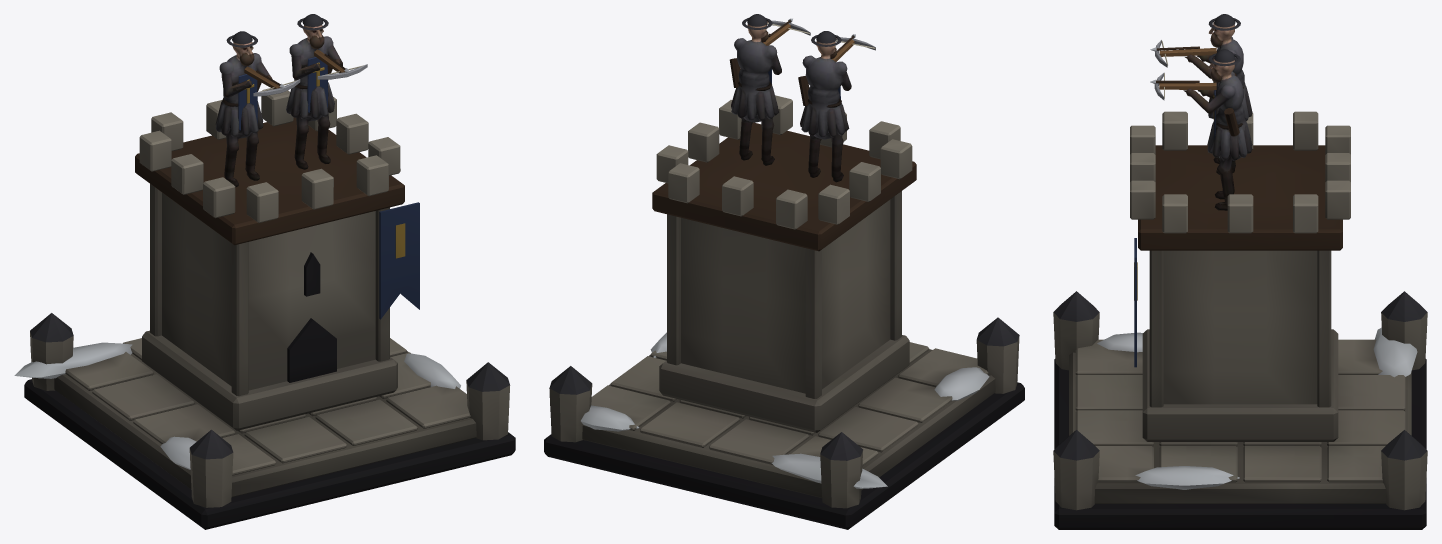
File: alliance-0.glb
3 views of the same model, side by side, from view 1: azimuth 30°, elevation 25°; view 2: azimuth 150°, elevation 25°; view 3: azimuth 270°, elevation 25° (orthographic). The views are drawn at different scales.
Parts seen in each view (by area): view 1: aubeval_0_architecture, Tourelle_peint, Tourelle_peint.001; view 2: aubeval_0_architecture, Tourelle_peint, Tourelle_peint.001; view 3: aubeval_0_architecture, Tourelle_peint, Tourelle_peint.001.
Part boxes in pixels (<box>): aubeval_0_architecture: <box>14,88,515,529</box>; Tourelle_peint: <box>215,25,342,187</box>; Tourelle_peint.001: <box>222,14,367,130</box>; aubeval_0_architecture: <box>544,95,1024,529</box>; Tourelle_peint: <box>731,21,851,182</box>; Tourelle_peint.001: <box>729,14,875,107</box>; aubeval_0_architecture: <box>1053,111,1427,529</box>; Tourelle_peint: <box>1183,22,1252,210</box>; Tourelle_peint.001: <box>1150,14,1243,139</box>.
Size of the model in its own units: 0.8621 by 0.9966 by 0.804.
2 materials, 1 textured.
